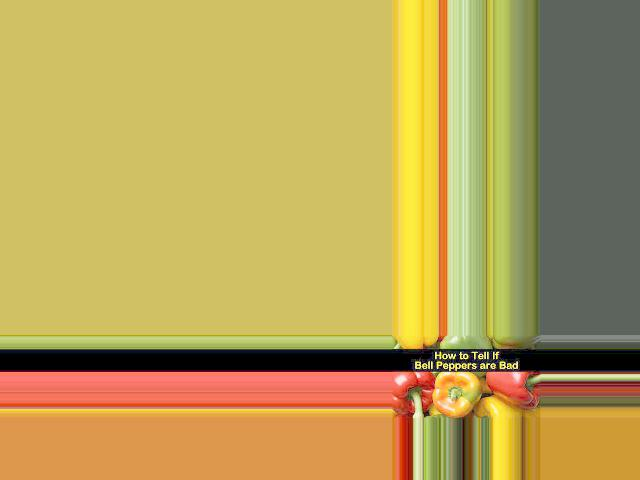bell_pepper: (394, 368, 437, 418)
